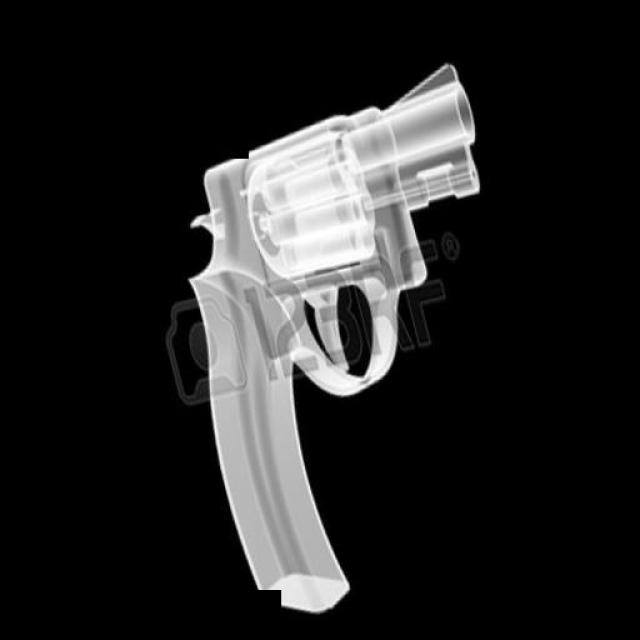gun: (133, 51, 585, 625)
